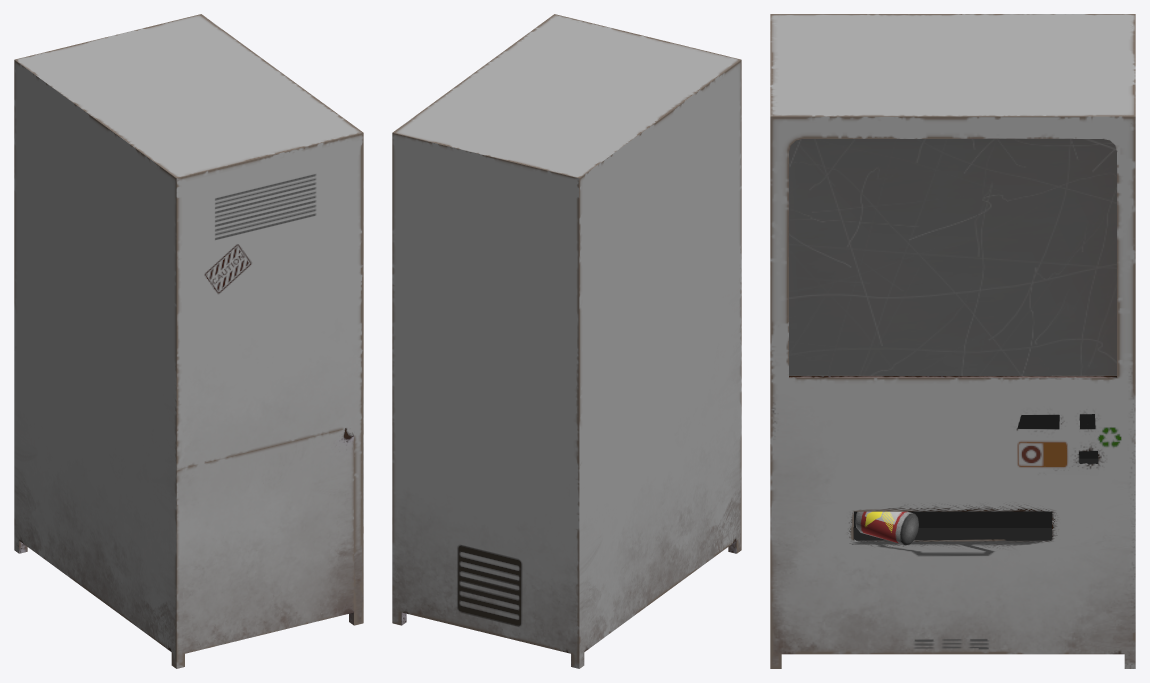
File: Vendingmachine 2.fbx
3 renders of one model, left to right at view 1: azimuth 30°, elevation 25°; view 2: azimuth 150°, elevation 25°; view 3: azimuth 270°, elevation 25°, orthographic. The views are drawn at different scales.
Parts seen in each view (by area): view 1: VendingMachine 2; view 2: VendingMachine 2; view 3: VendingMachine 2.
Boxes of the visible parts, <box> form: VendingMachine 2: <box>14,14,363,668</box>; VendingMachine 2: <box>392,14,741,668</box>; VendingMachine 2: <box>770,14,1135,668</box>.
Bounding box in the file's own units: 93.52 × 217 × 130.
